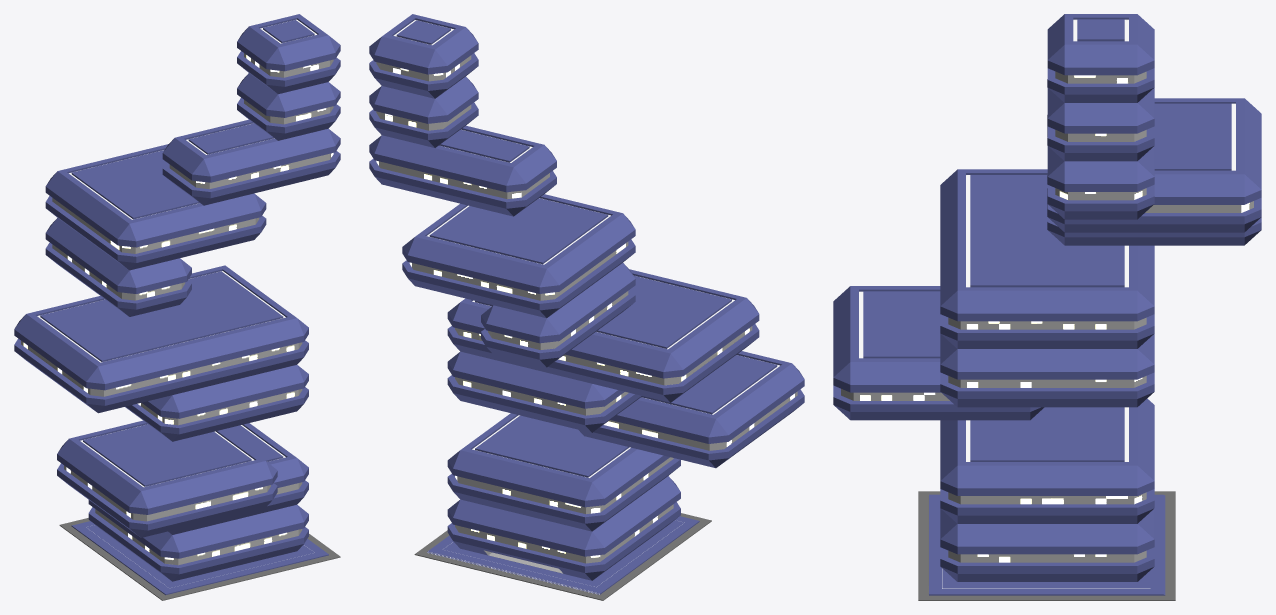
File: Bina 16.fbx
3 renders of one model, left to right at view 1: azimuth 30°, elevation 25°; view 2: azimuth 150°, elevation 25°; view 3: azimuth 270°, elevation 25°, orthographic. The views are drawn at different scales.
Parts seen in each view (by area): view 1: HD, HDStand; view 2: HD, HDStand; view 3: HD, HDStand.
Boxes of the visible parts, box(x1,y1,x2,y2) form: HD: box(14, 14, 340, 581); HDStand: box(59, 518, 340, 600); HD: box(369, 14, 804, 580); HDStand: box(414, 513, 711, 600); HD: box(833, 14, 1261, 581); HDStand: box(918, 491, 1175, 600).
Bounding box in the file's own units: 64.23 × 96.66 × 64.23.
3 materials, 3 textured.
